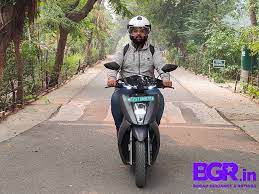Number plates: (126, 95, 155, 102)
